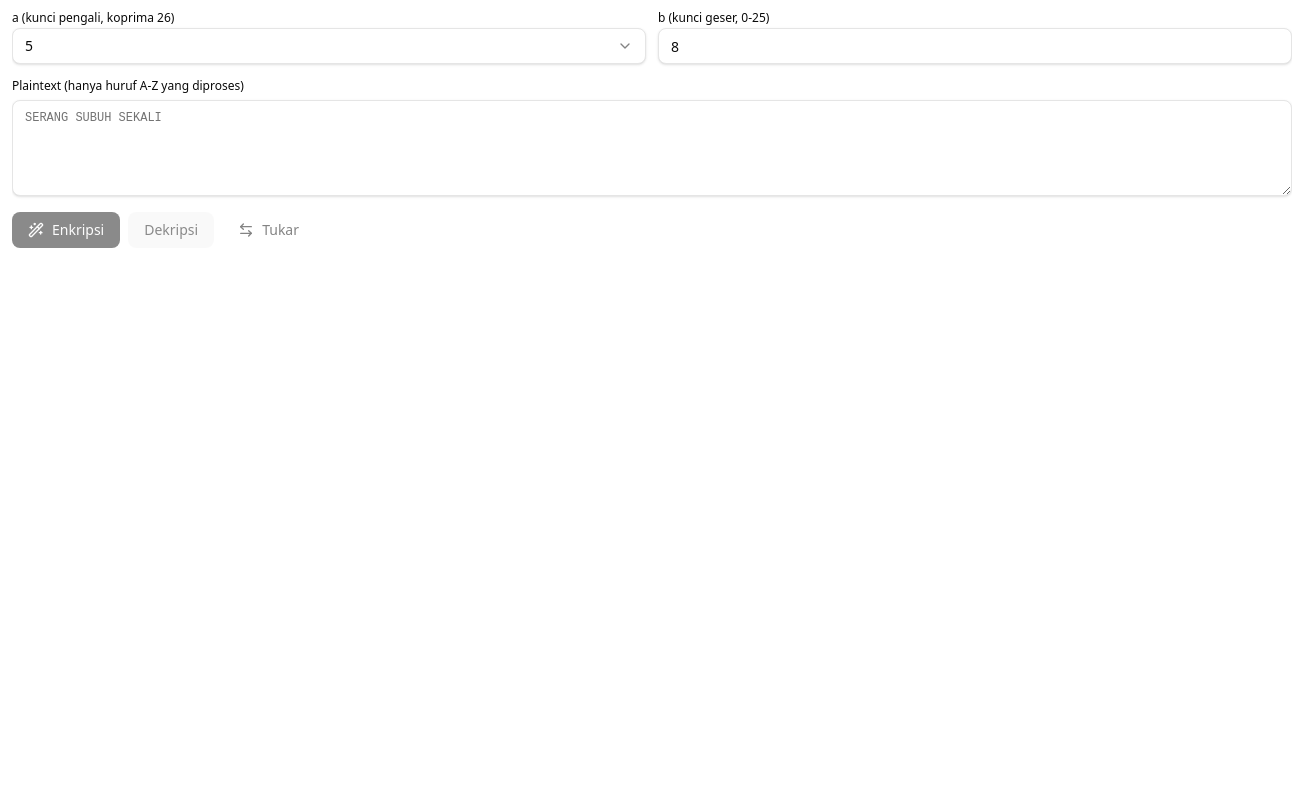
TextPanel — enkripsi/dekripsi teks lewat GUI › Affine: default a=5 b=8, AFFINECIPHER -> ihhwvcswfrcp
The width and height of the screenshot is (1304, 812).
Type "AFFINECIPHER" into the text box labelled "Plaintext (hanya huruf A-Z yang diproses)" at x=652, y=148, box [12,100,1292,196]
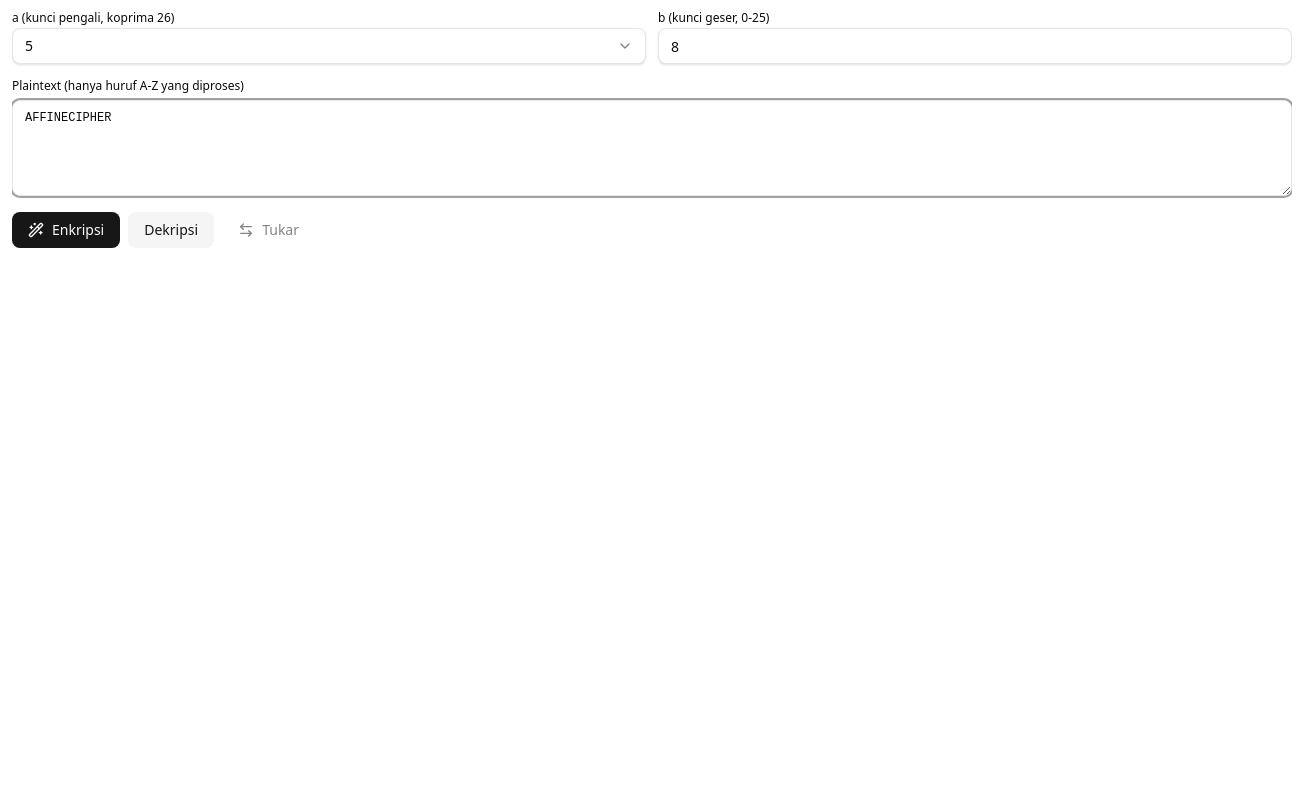
Click the button "Enkripsi" at x=66, y=230, box [12,212,120,248]
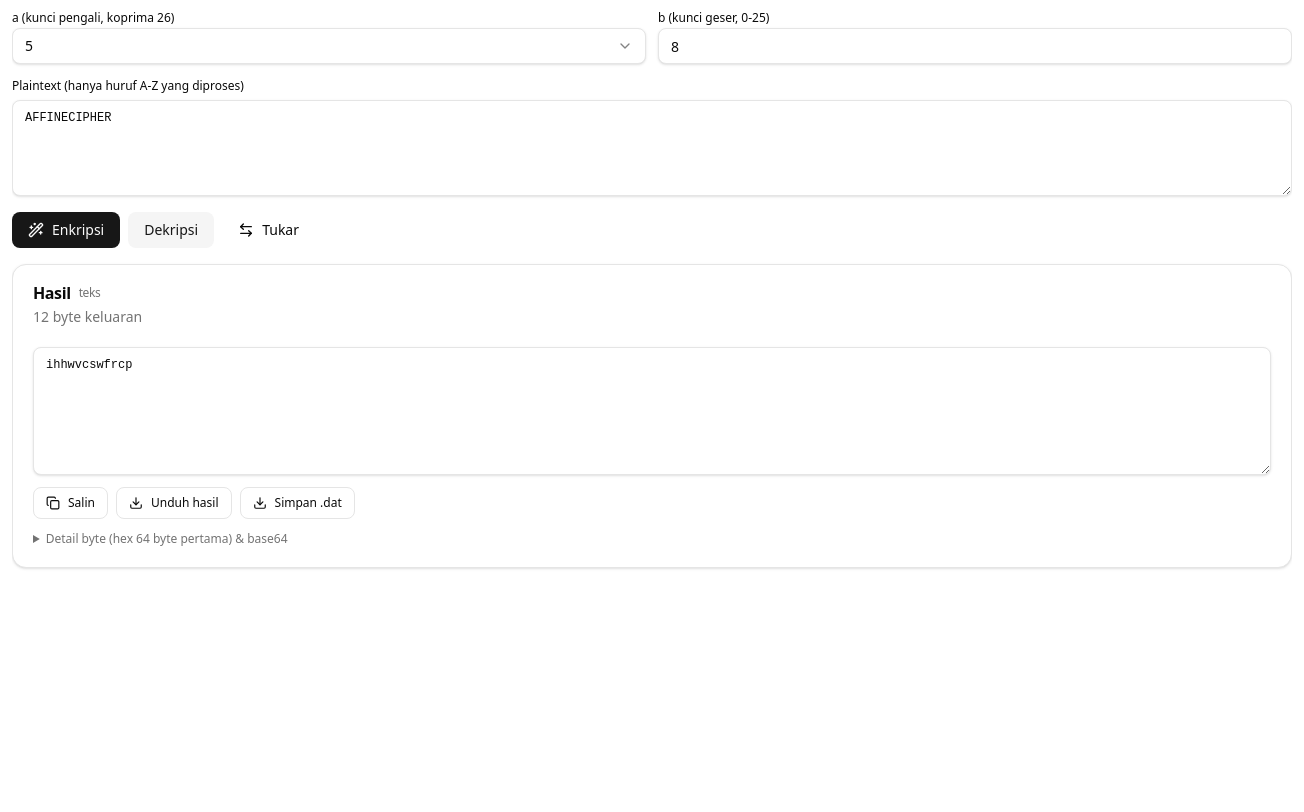
Expected: the text box with test id "result-output" holds "ihhwvcswfrcp", [33,347,1271,475]
